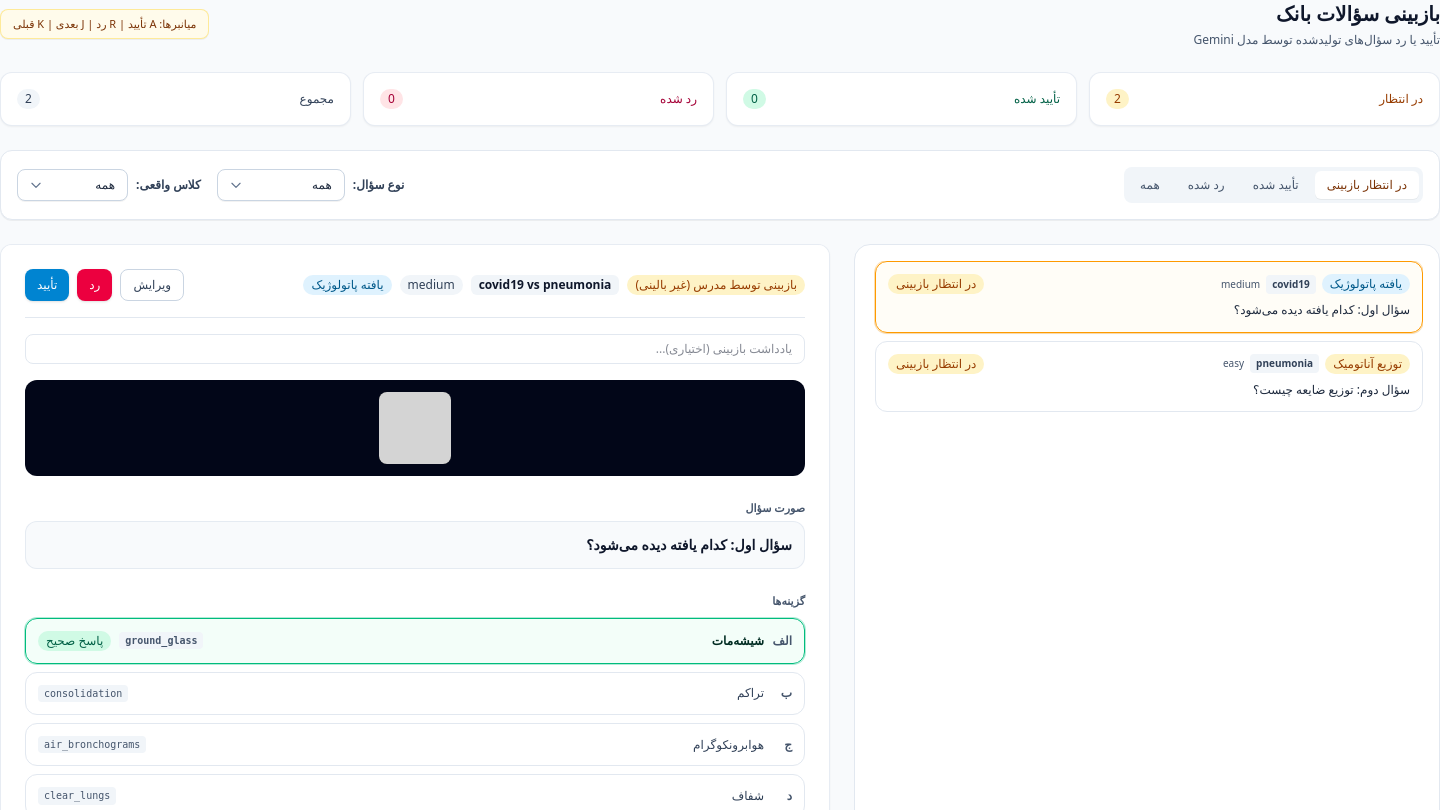
Test case: InstructorReviewPage Integration › approves currently selected question and advances to next item
This screenshot has width=1440, height=810.
expect the 1st text "سؤال اول: کدام یافته دیده می‌شود؟" is shown: met, box [1234, 301, 1410, 318]
Click Approve button
Click the button "تأیید". click: click(47, 285)
box: [25, 269, 69, 301]
(page scrolled)
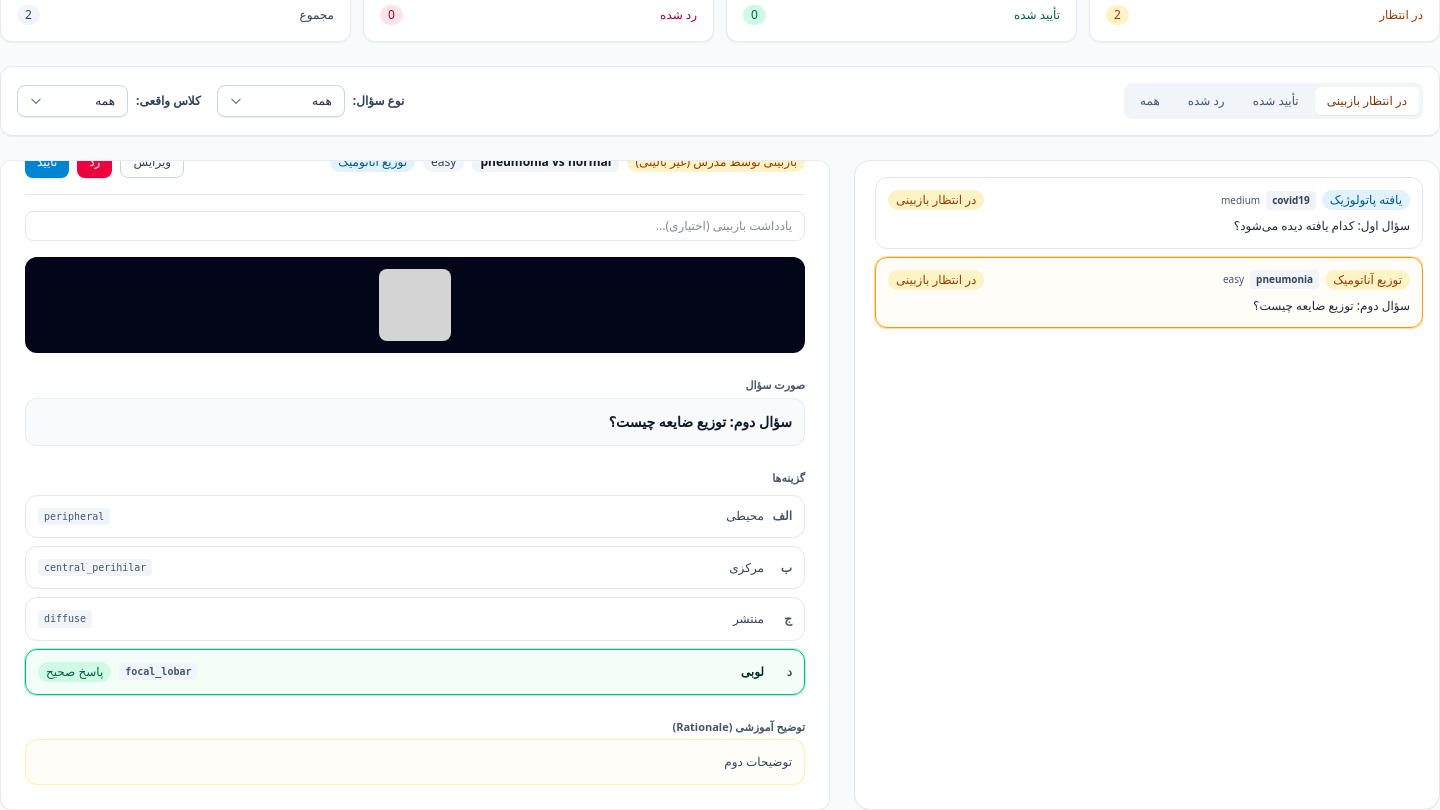
expect the text "توضیحات دوم" is shown: met, box [25, 739, 805, 785]
